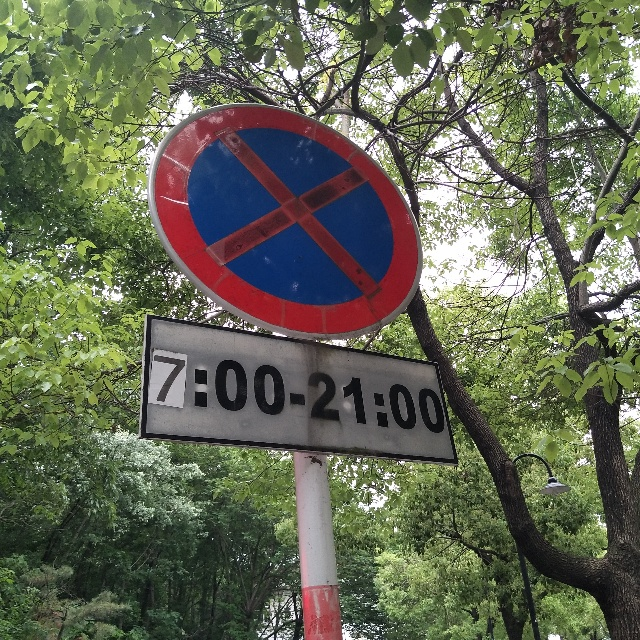stop: (199, 125, 398, 319)
